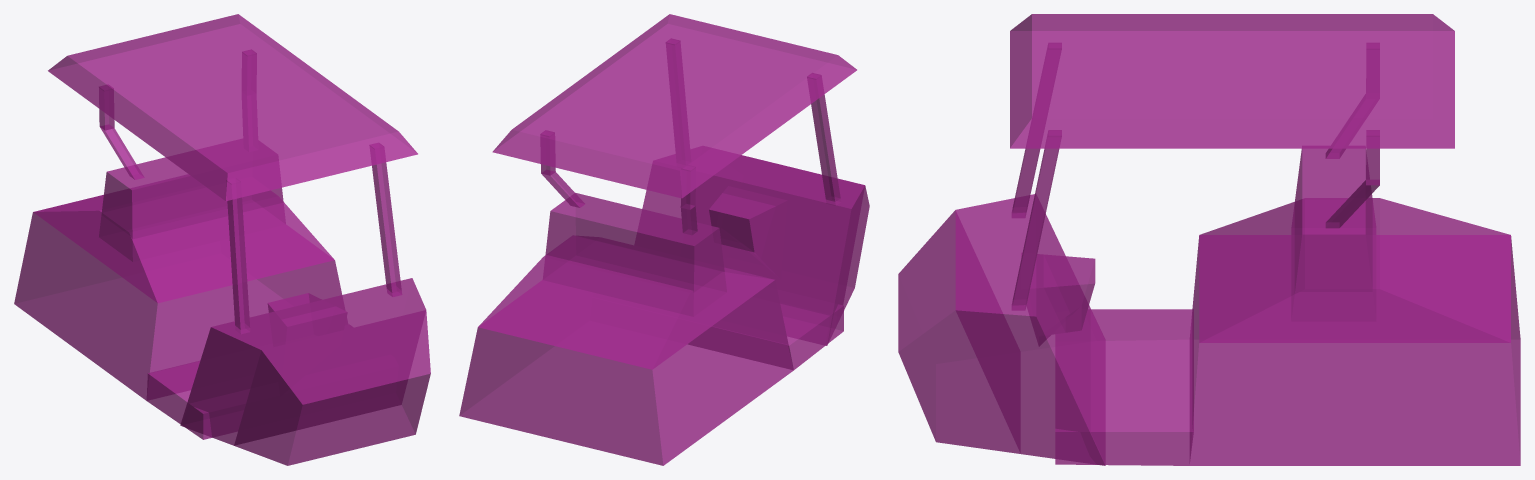
Rendered from SM_Veh_Golf_Cart_01_Collision.fbx.
The picture shows the model from 3 angles, left to right: view 1: azimuth 30°, elevation 25°; view 2: azimuth 150°, elevation 25°; view 3: azimuth 270°, elevation 25°; orthographic projection. The views are drawn at different scales.
Visible parts, largest first — view 1: SM_Veh_Golf_Cart_01_Collision; view 2: SM_Veh_Golf_Cart_01_Collision; view 3: SM_Veh_Golf_Cart_01_Collision.
Boxes of the visible parts, x1,y1,x2,y2 form: SM_Veh_Golf_Cart_01_Collision: (14, 14, 430, 465); SM_Veh_Golf_Cart_01_Collision: (459, 14, 869, 465); SM_Veh_Golf_Cart_01_Collision: (898, 14, 1520, 465).
Bounding box in the file's own units: 149 × 185 × 310.
